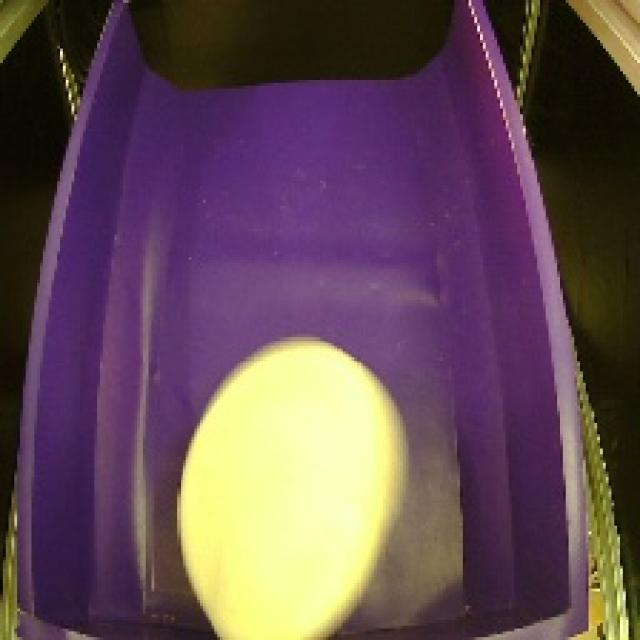white_radish: (159, 314, 429, 640)
